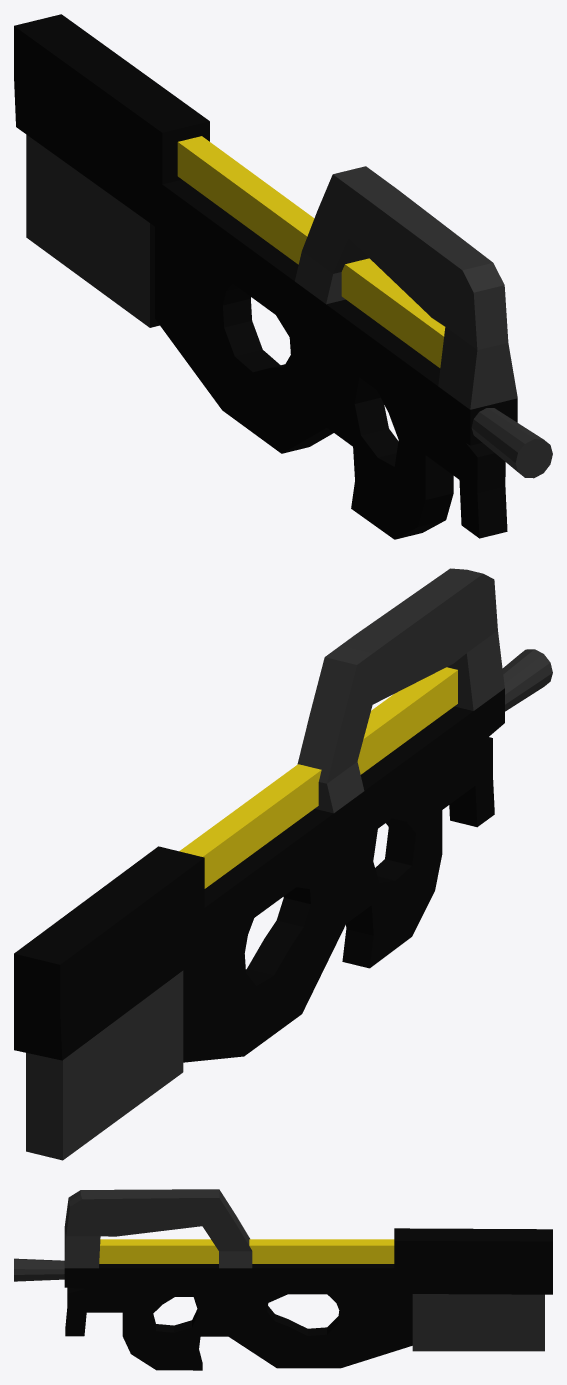
3 renders of one model, top to bottom at view 1: azimuth 30°, elevation 25°; view 2: azimuth 150°, elevation 25°; view 3: azimuth 270°, elevation 25°, orthographic. The views are drawn at different scales.
Visible parts, largest first — view 1: P90, P90_Mag; view 2: P90, P90_Mag; view 3: P90, P90_Mag.
Part boxes in pixels (x1=…): P90: x1=14, y1=14, x2=552, y2=539; P90_Mag: x1=177, y1=136, x2=445, y2=367; P90: x1=14, y1=568, x2=552, y2=1160; P90_Mag: x1=179, y1=667, x2=457, y2=888; P90: x1=14, y1=1189, x2=552, y2=1370; P90_Mag: x1=99, y1=1239, x2=394, y2=1263.
Size of the model in its own units: 0.0301 by 0.188 by 0.5303.
